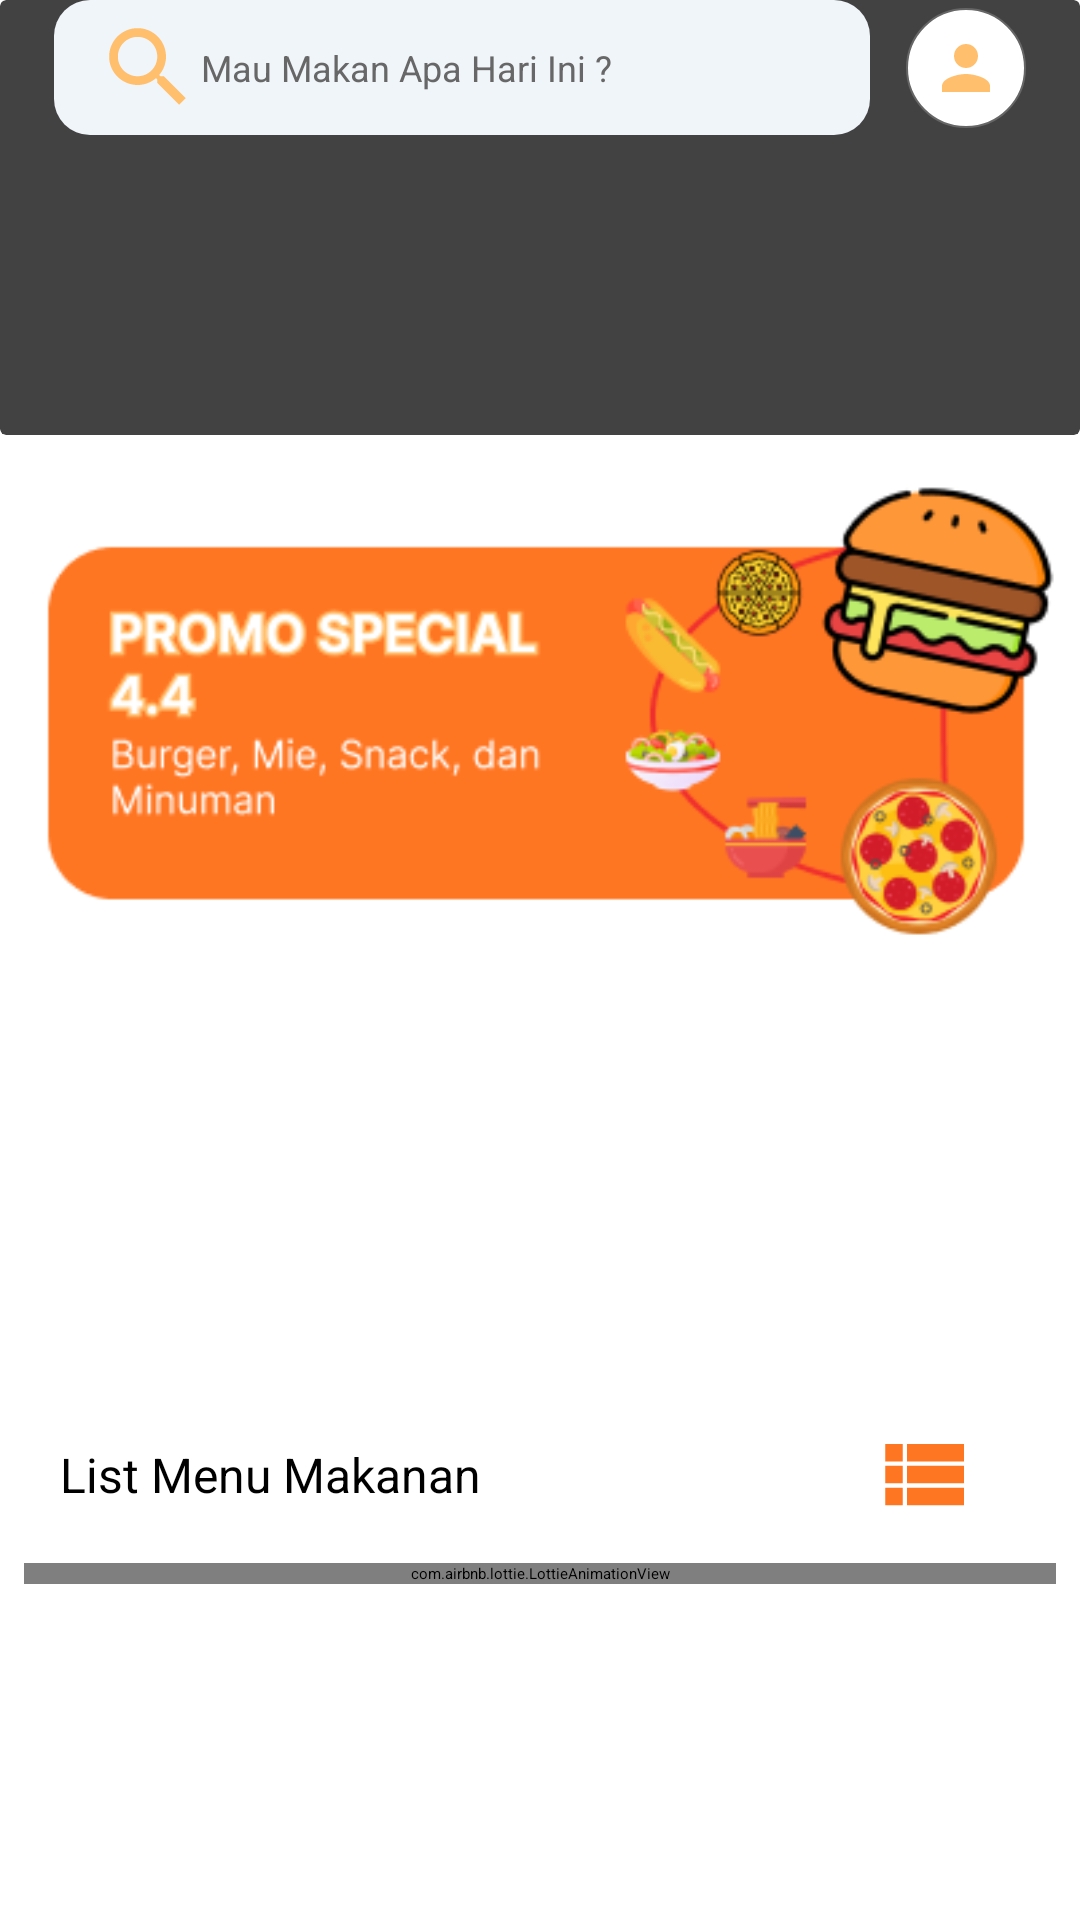

Point at icon controls on the screen. Image size 1080 x 1920, points as [x,y].
list to linier: [924,1475]
person warm: [966,68]
search: [147,66]
